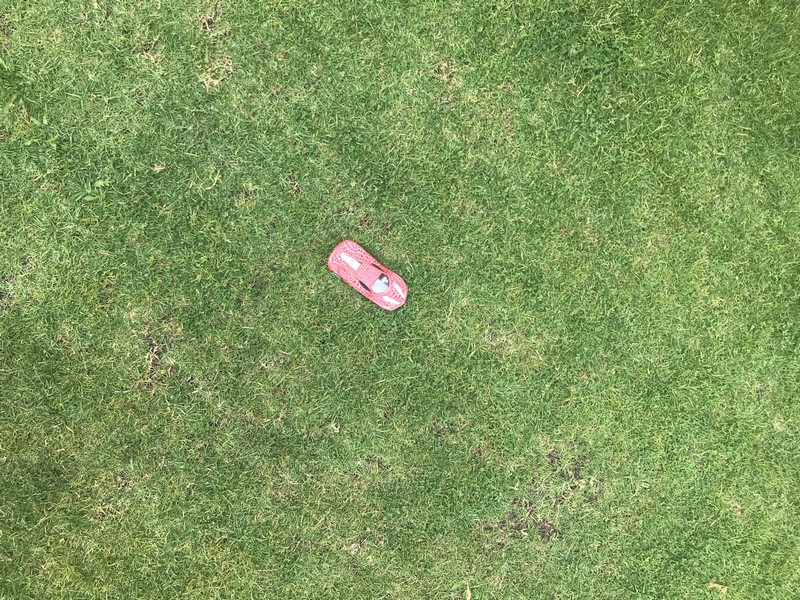RC: (326, 238, 409, 314)
